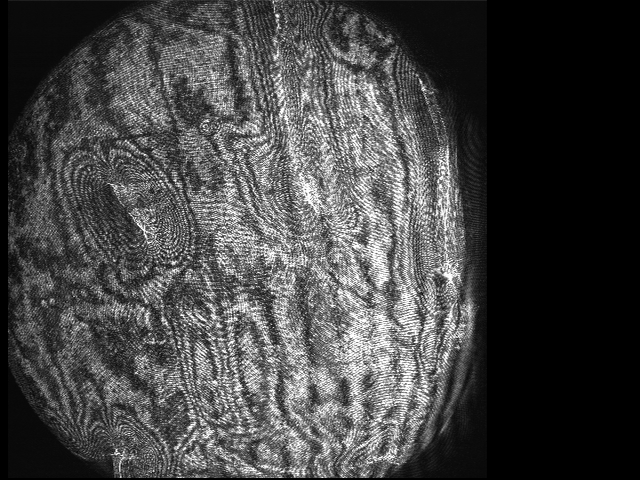plume: (77, 147, 189, 269)
